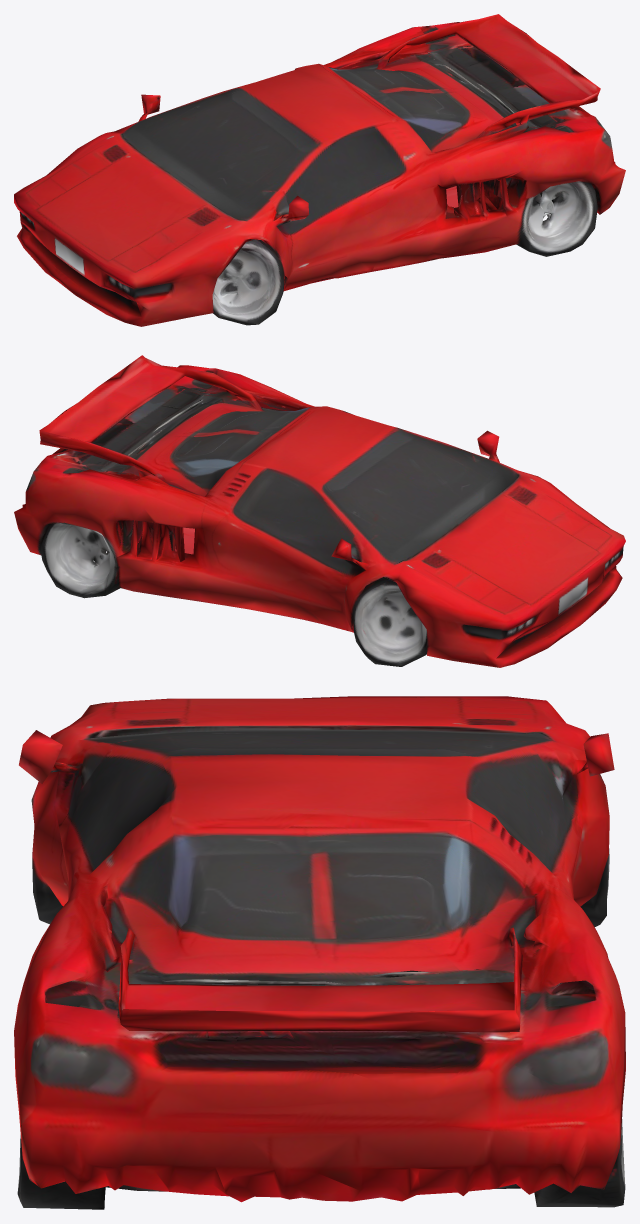
File: TrafficRacer_0604085558_texture.glb
3 renders of one model, top to bottom at view 1: azimuth 30°, elevation 25°; view 2: azimuth 150°, elevation 25°; view 3: azimuth 270°, elevation 25°, orthographic. The views are drawn at different scales.
Bounding box in the file's own units: 2 × 0.5508 × 1.14.
1 material, 1 textured.
